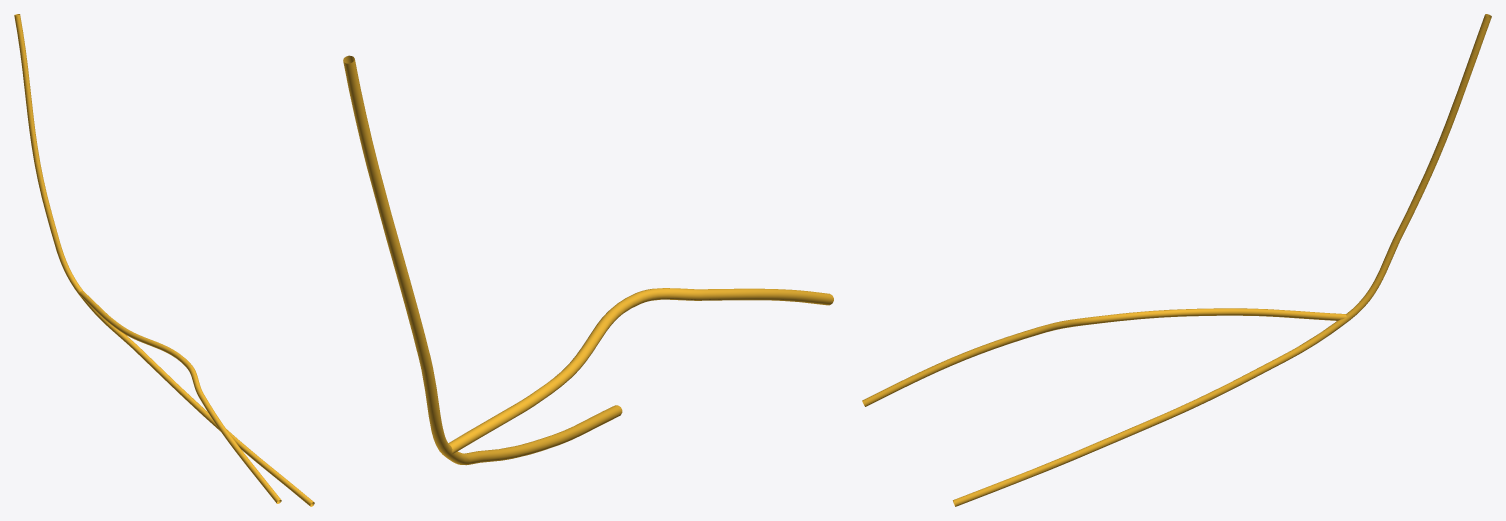
File: nervoso-intermediate-dorsal-cutaneous-nerve-of-foot-l.glb
The picture shows the model from 3 angles, left to right: view 1: azimuth 30°, elevation 25°; view 2: azimuth 150°, elevation 25°; view 3: azimuth 270°, elevation 25°; orthographic projection. The views are drawn at different scales.
Visible parts, largest first — view 1: Intermediate dorsal cutaneous nerve of foot.l; view 2: Intermediate dorsal cutaneous nerve of foot.l; view 3: Intermediate dorsal cutaneous nerve of foot.l.
Boxes of the visible parts, left/top/right/bottom form: Intermediate dorsal cutaneous nerve of foot.l: left=14, top=14, right=314, bottom=506; Intermediate dorsal cutaneous nerve of foot.l: left=343, top=55, right=833, bottom=465; Intermediate dorsal cutaneous nerve of foot.l: left=862, top=14, right=1491, bottom=506.
Size of the model in its own units: 0.0174 by 0.066 by 0.0851.
